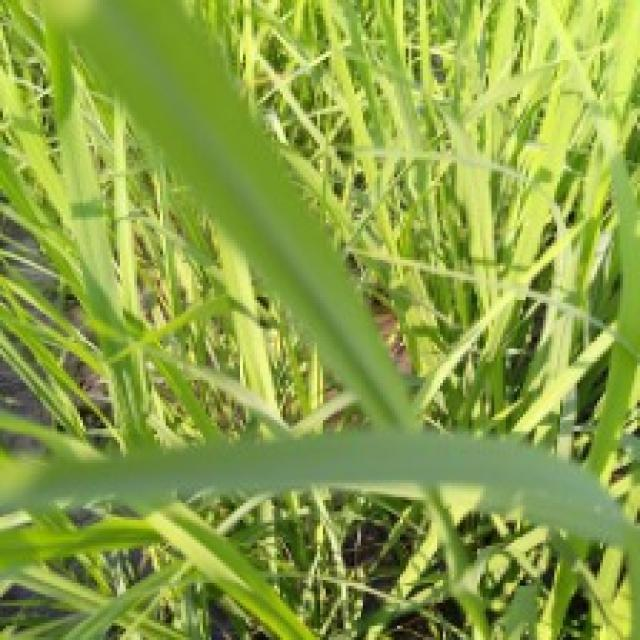Healthy: (35, 0, 496, 640)
